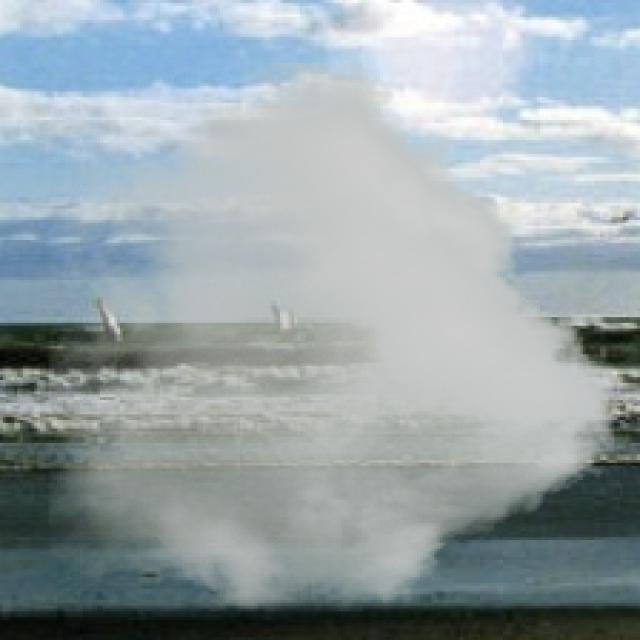smoke: (49, 63, 614, 611)
